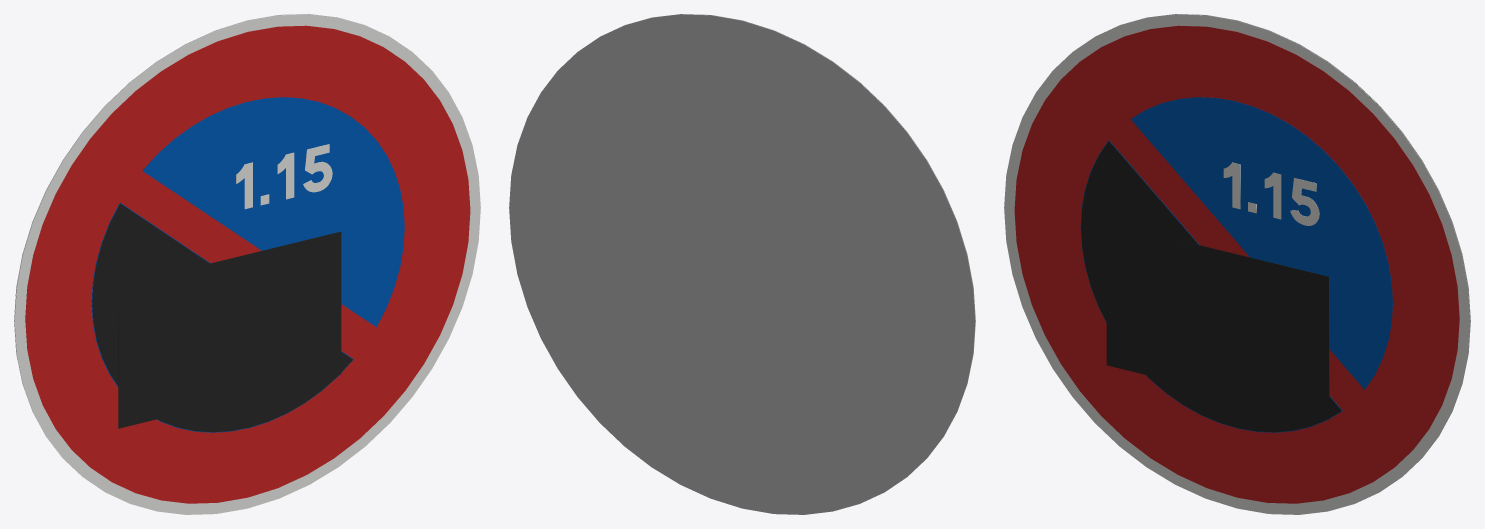
The picture shows the model from 3 angles, left to right: view 1: azimuth 30°, elevation 25°; view 2: azimuth 150°, elevation 25°; view 3: azimuth 330°, elevation 25°; orthographic projection.
Parts seen in each view (by area): view 1: B6a2_p01, B6a2_p06, B6a2_p05, B6a2_p00, B6a2_p03, B6a2_p10, B6a2_dos, B6a2_p02; view 2: B6a2_dos, B6a2_p00; view 3: B6a2_p01, B6a2_p06, B6a2_p05, B6a2_p00, B6a2_p03, B6a2_p10, B6a2_dos, B6a2_p02.
Boxes of the visible parts, box(x1,y1,x2,y2) form: B6a2_p01: box(25, 25, 470, 503); B6a2_p06: box(118, 231, 341, 428); B6a2_p05: box(142, 97, 404, 326); B6a2_p00: box(14, 14, 480, 514); B6a2_p03: box(92, 203, 352, 432); B6a2_p10: box(303, 144, 332, 192); B6a2_dos: box(14, 14, 385, 473); B6a2_p02: box(91, 202, 353, 432); B6a2_dos: box(509, 14, 975, 514); B6a2_p00: box(604, 14, 975, 473); B6a2_p01: box(1014, 25, 1459, 503); B6a2_p06: box(1106, 222, 1329, 419); B6a2_p05: box(1130, 97, 1392, 389); B6a2_p00: box(1004, 14, 1470, 514); B6a2_p03: box(1081, 141, 1341, 432); B6a2_p10: box(1290, 178, 1319, 225); B6a2_dos: box(1099, 14, 1470, 473); B6a2_p02: box(1080, 140, 1342, 432).
Size of the model in its own units: 0.85 by 0.8498 by 0.0059.
